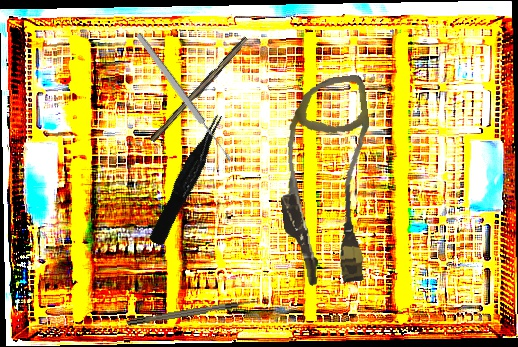Cannula: (266, 73, 389, 290)
Hook Surgical: (126, 298, 261, 326)
Scalpel Handle: (149, 34, 251, 146)
Surgical Spoon: (134, 31, 234, 164)
Tissue Forceps: (142, 112, 234, 247)
